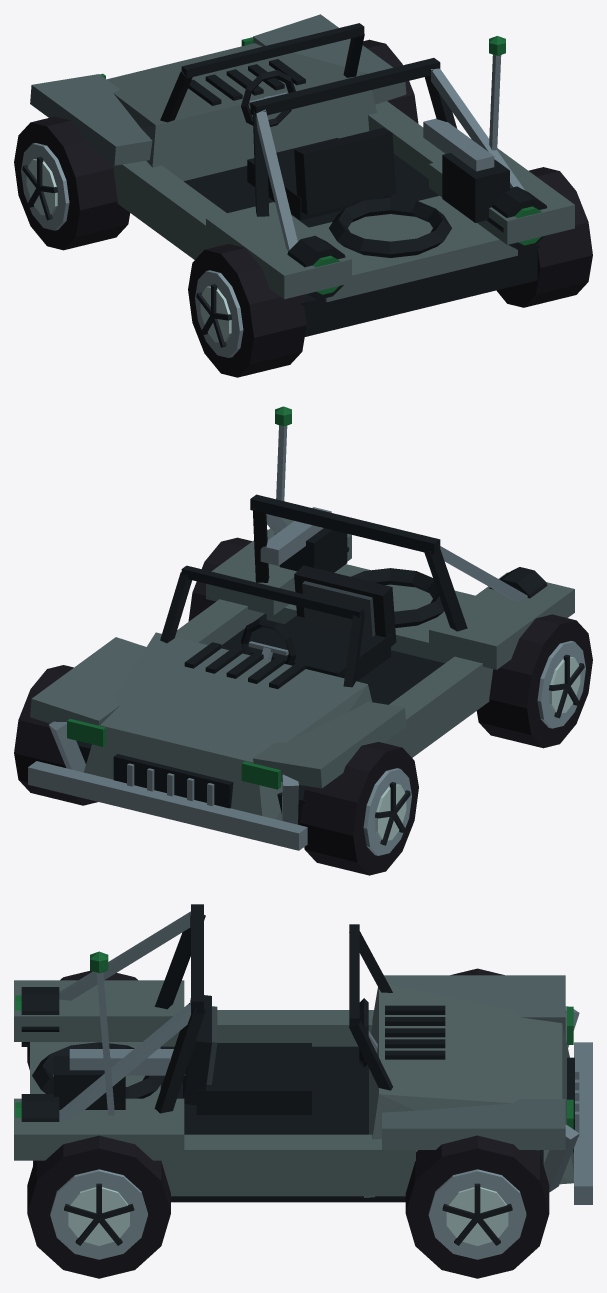
File: kart.glb
3 views of the same model, one above another, from view 1: azimuth 30°, elevation 25°; view 2: azimuth 150°, elevation 25°; view 3: azimuth 270°, elevation 25° (orthographic). The views are drawn at different scales.
Parts seen in each view (by area): view 1: identity-warthog-warthog-sloped-armored-bonnet, identity-warthog-warthog-open-cage-and-cargo-bed, wheel-rear-left, wheel-front-left, identity-warthog-driver-cockpit, wheel-rear-right, identity-warthog-motif-thrusters, identity-warthog-motif-antenna, wheel-front-right; view 2: identity-warthog-warthog-sloped-armored-bonnet, identity-warthog-warthog-open-cage-and-cargo-bed, wheel-front-left, wheel-rear-left, identity-warthog-driver-cockpit, wheel-front-right, wheel-rear-right, identity-warthog-motif-antenna, identity-warthog-motif-thrusters; view 3: identity-warthog-warthog-sloped-armored-bonnet, identity-warthog-warthog-open-cage-and-cargo-bed, wheel-front-right, wheel-rear-right, identity-warthog-driver-cockpit, identity-warthog-motif-thrusters, identity-warthog-motif-antenna.
Part boxes in pixels (<box>): identity-warthog-warthog-sloped-armored-bonnet: <box>30,14,574,336</box>; identity-warthog-warthog-open-cage-and-cargo-bed: <box>160,23,524,302</box>; wheel-rear-left: <box>188,244,306,377</box>; wheel-front-left: <box>14,116,130,250</box>; identity-warthog-driver-cockpit: <box>241,70,396,220</box>; wheel-rear-right: <box>496,167,592,307</box>; identity-warthog-motif-thrusters: <box>287,186,547,299</box>; identity-warthog-motif-antenna: <box>489,36,505,150</box>; wheel-front-right: <box>362,39,418,123</box>; identity-warthog-warthog-sloped-armored-bonnet: <box>28,518,574,850</box>; identity-warthog-warthog-open-cage-and-cargo-bed: <box>160,494,527,687</box>; wheel-front-left: <box>300,742,418,875</box>; wheel-rear-left: <box>476,614,592,748</box>; identity-warthog-driver-cockpit: <box>241,565,396,681</box>; wheel-front-right: <box>14,665,97,805</box>; wheel-rear-right: <box>188,537,251,621</box>; identity-warthog-motif-antenna: <box>274,406,291,534</box>; identity-warthog-motif-thrusters: <box>347,547,547,598</box>; identity-warthog-warthog-sloped-armored-bonnet: <box>14,975,592,1204</box>; identity-warthog-warthog-open-cage-and-cargo-bed: <box>30,904,392,1120</box>; wheel-front-right: <box>405,1135,549,1278</box>; wheel-rear-right: <box>27,1135,170,1278</box>; identity-warthog-driver-cockpit: <box>183,995,377,1114</box>; identity-warthog-motif-thrusters: <box>15,987,59,1121</box>; identity-warthog-motif-antenna: <box>90,951,114,1115</box>.
Size of the model in its own units: 2.37 by 1.72 by 3.06.
